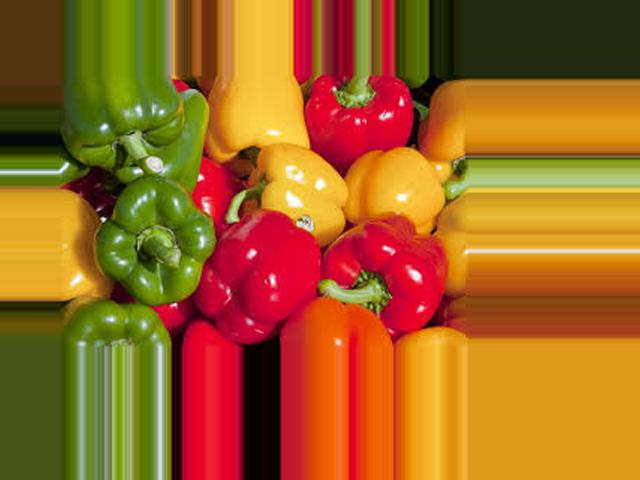bell_pepper: (59, 284, 170, 348)
